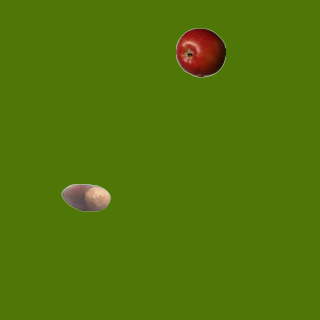Apple Braeburn: (175, 27, 225, 77)
Hazelnut: (60, 172, 110, 222)
